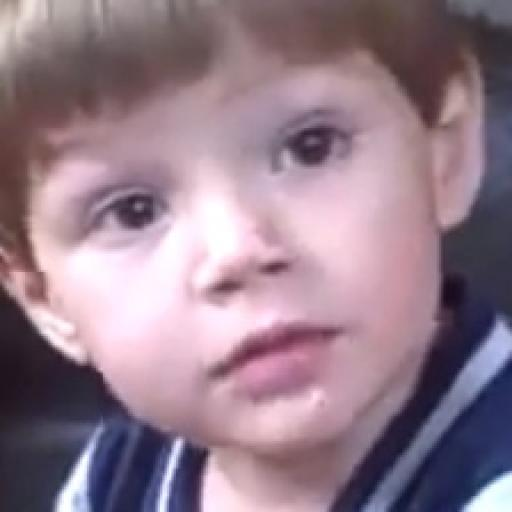Autism: (3, 1, 493, 476)
